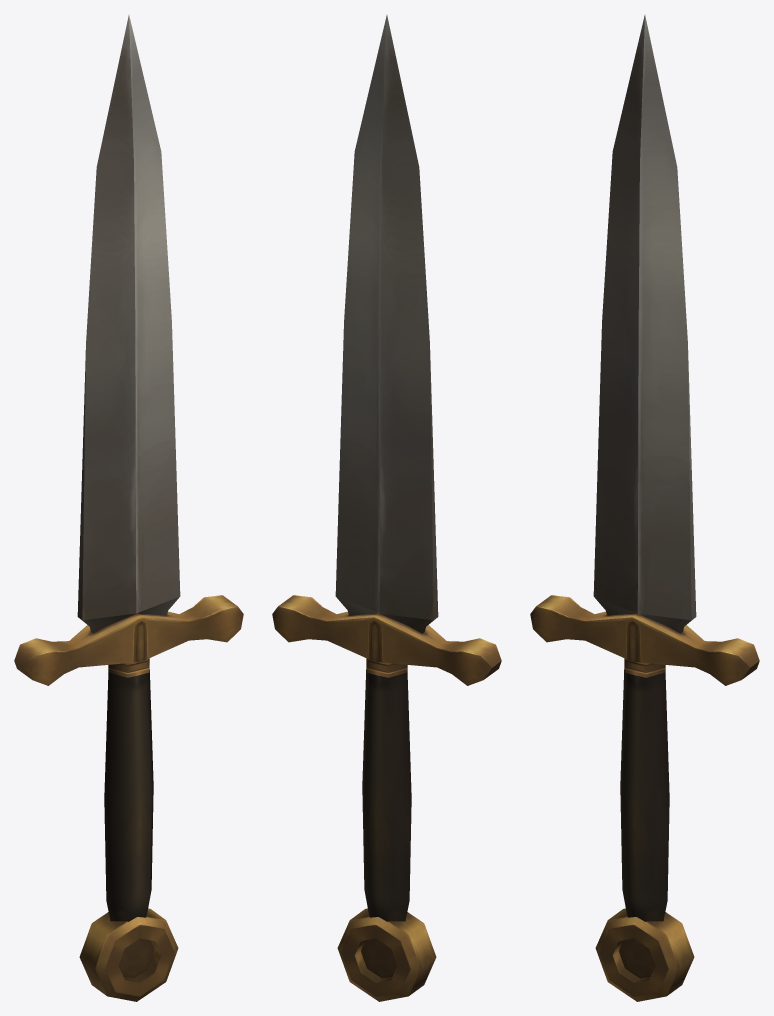
The model's file is 76_weapon.FBX.
3 views of the same model, side by side, from view 1: azimuth 30°, elevation 25°; view 2: azimuth 150°, elevation 25°; view 3: azimuth 330°, elevation 25° (orthographic).
Parts seen in each view (by area): view 1: 76_weapon; view 2: 76_weapon; view 3: 76_weapon.
Boxes of the visible parts, <box> form: 76_weapon: <box>14,15,243,1001</box>; 76_weapon: <box>272,15,501,1001</box>; 76_weapon: <box>530,15,759,1001</box>.
Bounding box in the file's own units: 298 × 1272 × 58.
